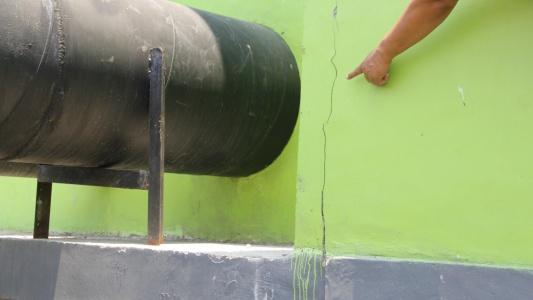Crack: (314, 0, 342, 266)
